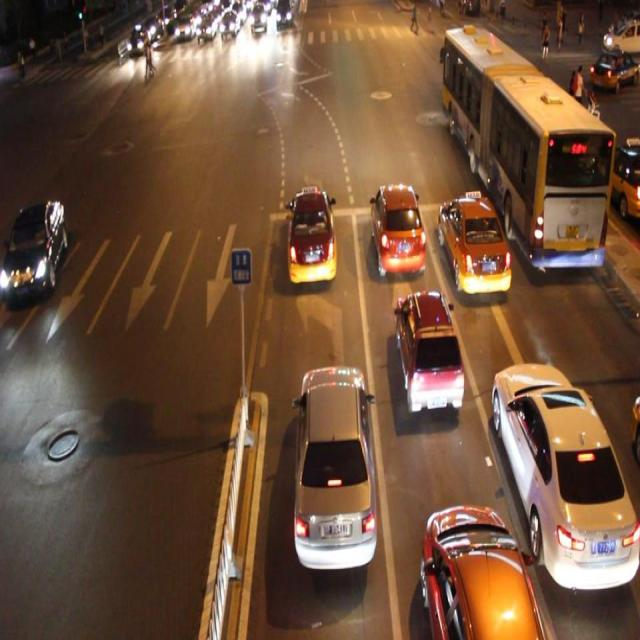car: (490, 361, 640, 594), (292, 364, 377, 569), (421, 502, 544, 640), (391, 292, 462, 416), (438, 193, 509, 294), (1, 196, 66, 304), (370, 180, 426, 276), (285, 186, 337, 286)
van: (442, 23, 612, 272)
